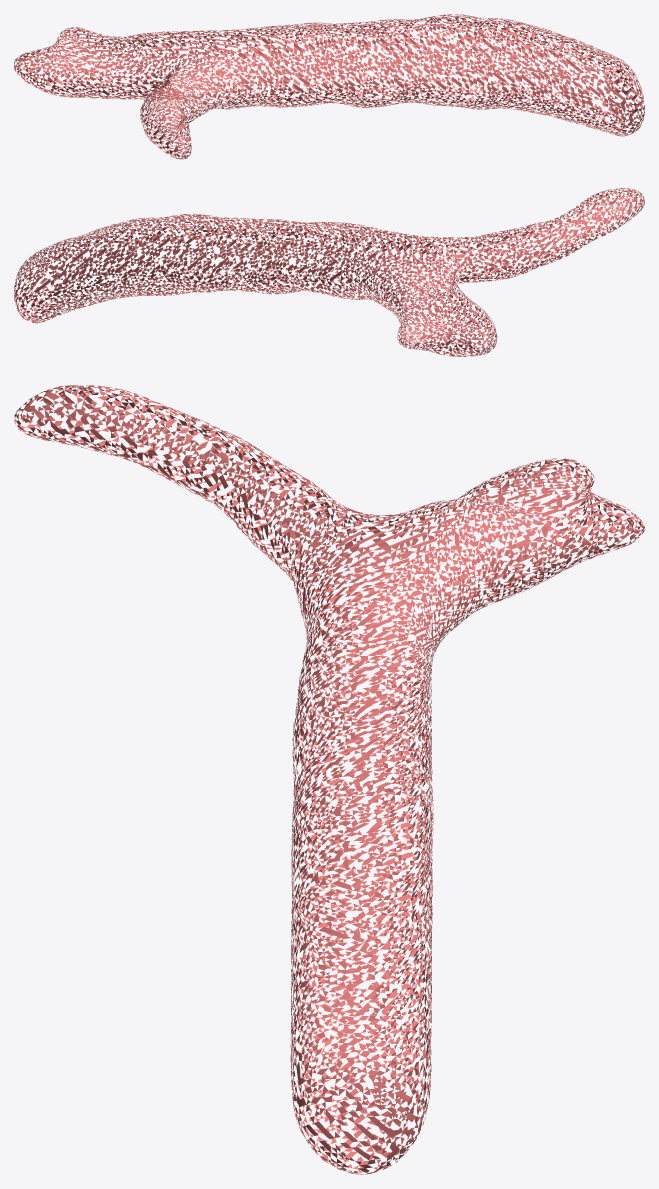
Rendered from morph_000.glb.
The picture shows the model from 3 angles, top to bottom: view 1: azimuth 30°, elevation 25°; view 2: azimuth 150°, elevation 25°; view 3: azimuth 270°, elevation 25°; orthographic projection. The views are drawn at different scales.
Bounding box in the file's own units: 113 × 40.18 × 65.23.
